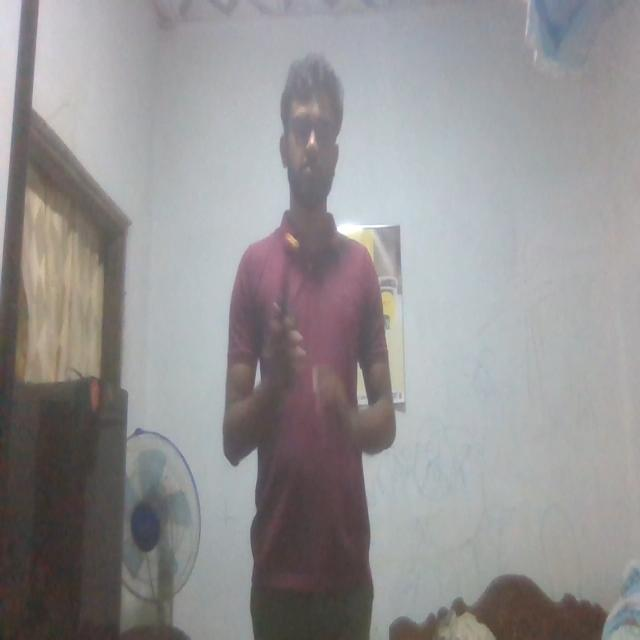Gun_Holder: (260, 235, 304, 402)
Person: (222, 50, 396, 640)
